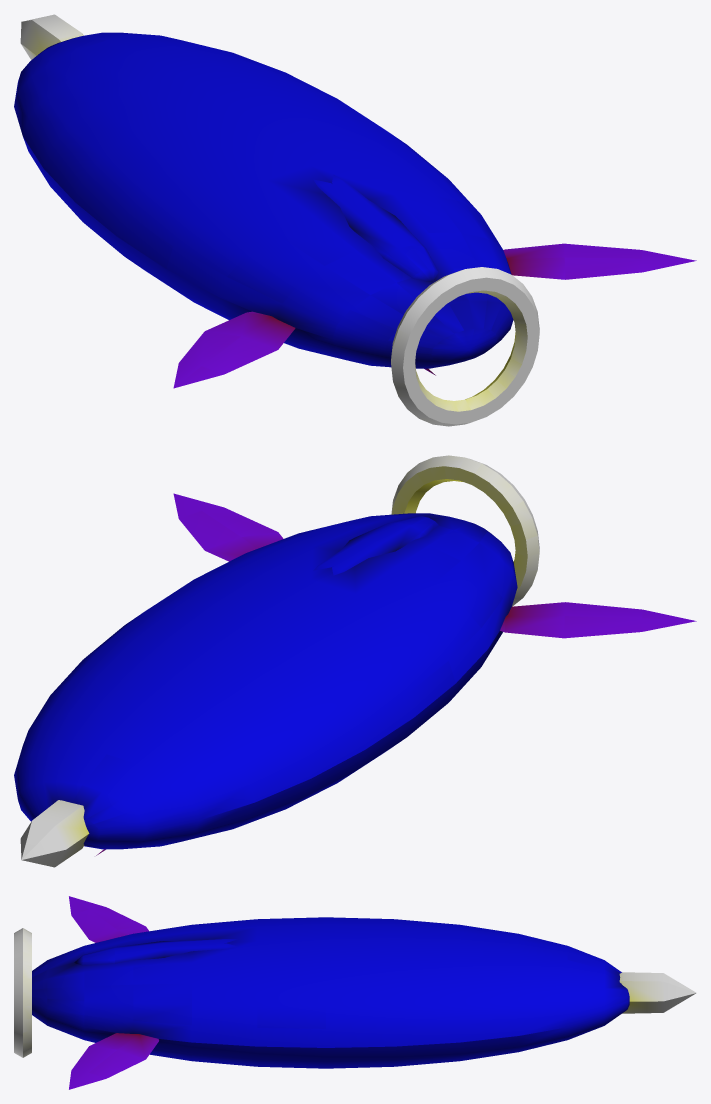
The model's file is inhumanus_mercator_corvette.fbx.
The picture shows the model from 3 angles, top to bottom: view 1: azimuth 30°, elevation 25°; view 2: azimuth 150°, elevation 25°; view 3: azimuth 270°, elevation 25°; orthographic projection. The views are drawn at different scales.
Visible parts, largest first — view 1: inhumanus_mercator_corvette; view 2: inhumanus_mercator_corvette; view 3: inhumanus_mercator_corvette.
Boxes of the visible parts, x1=… form: inhumanus_mercator_corvette: x1=14, y1=14, x2=696, y2=426; inhumanus_mercator_corvette: x1=14, y1=455, x2=696, y2=867; inhumanus_mercator_corvette: x1=14, y1=896, x2=696, y2=1089.
Size of the model in its own units: 0.7051 by 0.2 by 1.05.
